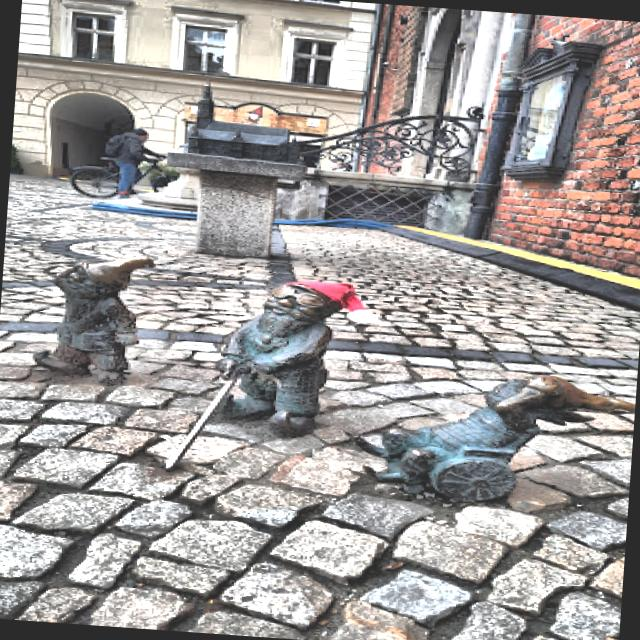Gluchak: (34, 258, 152, 379)
Slepak: (165, 281, 367, 468)
W-Skers: (358, 375, 631, 501)
